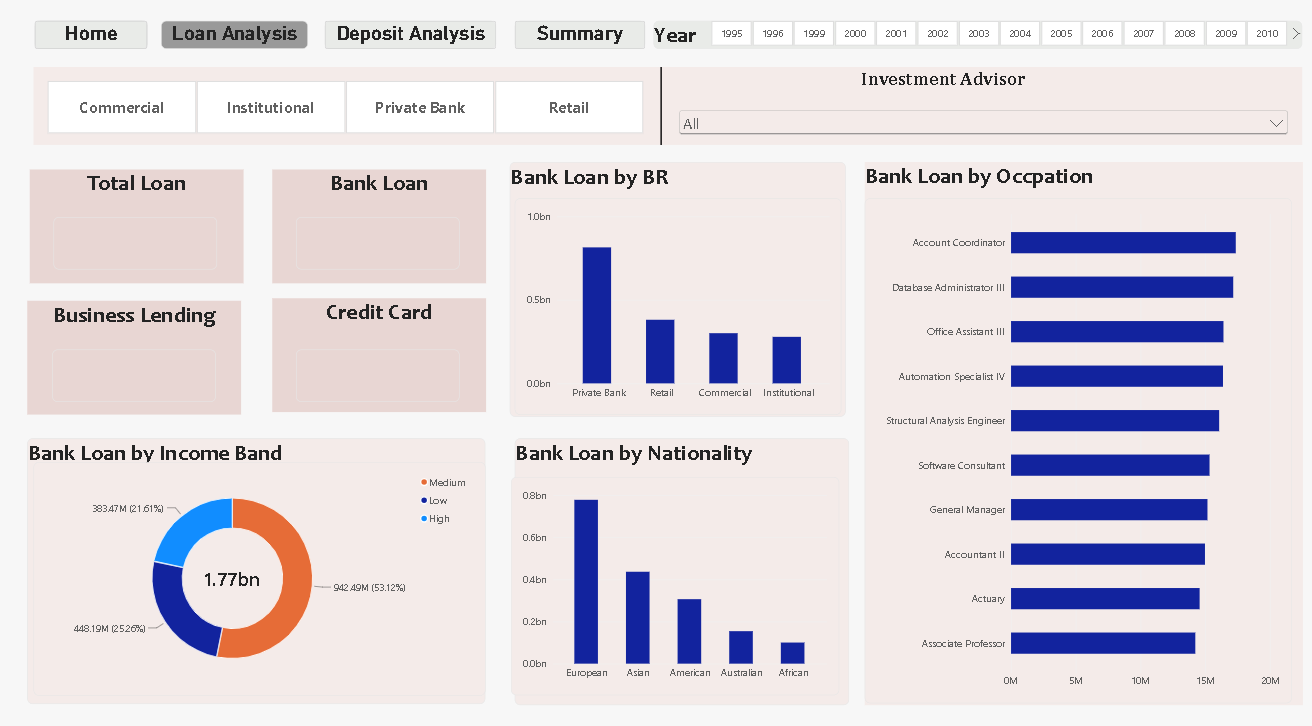

Layout of this report page (visuals, bound fields, positions):
{"tool":"powerbi","page":{"name":"Loan Analysis","canvas":[1920,1080],"ordinal":1},"visuals":[{"type":"textbox","title":"Bank Loan","box":[406.6,256.4,309.3,164.8],"z":0},{"type":"textbox","title":"Total Loan","box":[55.2,256.4,309.3,164.8],"z":1000},{"type":"cardVisual","fields":{"Data":["banking customer.Total Loan"]},"box":[90.6,324.9,237.1,76],"z":2000},{"type":"cardVisual","fields":{"Data":["Sum(banking customer.Bank Loans)"]},"box":[442,324.9,237.1,76],"z":3000},{"type":"textbox","title":"Business Lending","box":[53,446.4,309.3,164.8],"z":4000},{"type":"cardVisual","fields":{"Data":["Sum(banking customer.Business Lending)"]},"box":[88.4,517.1,237.1,76],"z":5000},{"type":"textbox","title":"Credit Card","box":[406.6,444.2,309.3,164.8],"z":6000},{"type":"cardVisual","fields":{"Data":["Sum(banking customer.Credit Card Balance)"]},"box":[442,517.1,237.1,76],"z":7000},{"type":"textbox","title":"Bank Loan by Income Band","box":[53,645.3,663,384.5],"z":8000},{"type":"textbox","title":"Bank Loan by BR","box":[751.4,245.3,486.2,369.1],"z":9000},{"type":"textbox","title":"Bank Loan by Nationality","box":[758,645.3,484,386.7],"z":10000},{"type":"textbox","title":"Bank Loan by Occpation","box":[1264.1,245.3,634.3,786.7],"z":11000},{"type":"textbox","box":[61.9,108.3,1836.5,112.7],"z":12000},{"type":"textbox","title":"Home","box":[63,40.7,163,40.7],"z":13000},{"type":"textbox","title":"Loan Analysis","box":[246.3,40.7,213,40.7],"z":14000},{"type":"textbox","title":"Deposit Analysis","box":[483.3,40.7,248.1,40.7],"z":15000},{"type":"textbox","title":"Summary","box":[757.4,40.7,188.9,40.7],"z":16000},{"type":"textbox","title":"Year","box":[959.3,40.7,938.9,40.7],"z":17000},{"type":"actionButton","box":[63,40.7,163,40.7],"z":18000},{"type":"actionButton","box":[483.3,40.7,248.1,40.7],"z":19000},{"type":"actionButton","box":[757.4,40.7,188.9,40.7],"z":20000},{"type":"donutChart","fields":{"Category":["banking customer.Income Band"],"Y":["Sum(banking customer.Bank Loans)"]},"box":[61.9,680.7,654.1,338.1],"z":21000},{"type":"clusteredColumnChart","fields":{"Category":["banking customer.Banking Relationship"],"Y":["Sum(banking customer.Bank Loans)"]},"box":[758,298.3,472.9,313.8],"z":22000},{"type":"clusteredColumnChart","fields":{"Category":["banking customer.Nationality"],"Y":["Sum(banking customer.Bank Loans)"]},"box":[753.6,702.8,475.1,316],"z":23000},{"type":"barChart","fields":{"Category":["banking customer.Occupation"],"Y":["Sum(banking customer.Bank Loans)"]},"box":[1264.1,298.3,618.8,731.5],"z":24000},{"type":"slicer","fields":{"Values":["banking customer.Year of Joining"]},"box":[1023.2,39.8,872.9,39.8],"z":25000},{"type":"slicer","fields":{"Values":["banking customer.Banking Relationship"]},"box":[61.9,126,901.7,79.6],"z":26000},{"type":"shape","box":[959.1,108.3,22.1,112.7],"z":27000},{"type":"slicer","fields":{"Values":["banking customer.IAId"]},"box":[992.3,165.7,890.6,39.8],"z":28000},{"type":"textbox","title":"Investment Advisor","box":[1228.7,108.3,300.6,39.8],"z":29000}]}

Visuals, with their boxes on the page's 1920x1080 design canvas (x1, y1, x2, y2). These are canvas units, not pixel positions in the 1312x726 screenshot, which may show the page scaled, cropped or inside an application window:
"Bank Loan" textbox: 407, 256, 716, 421
"Total Loan" textbox: 55, 256, 364, 421
cardVisual - banking customer.Total Loan: 91, 325, 328, 401
cardVisual - Sum(banking customer.Bank Loans): 442, 325, 679, 401
"Business Lending" textbox: 53, 446, 362, 611
cardVisual - Sum(banking customer.Business Lending): 88, 517, 326, 593
"Credit Card" textbox: 407, 444, 716, 609
cardVisual - Sum(banking customer.Credit Card Balance): 442, 517, 679, 593
"Bank Loan by Income Band" textbox: 53, 645, 716, 1030
"Bank Loan by BR" textbox: 751, 245, 1238, 614
"Bank Loan by Nationality" textbox: 758, 645, 1242, 1032
"Bank Loan by Occpation" textbox: 1264, 245, 1898, 1032
textbox: 62, 108, 1898, 221
"Home" textbox: 63, 41, 226, 81
"Loan Analysis" textbox: 246, 41, 459, 81
"Deposit Analysis" textbox: 483, 41, 731, 81
"Summary" textbox: 757, 41, 946, 81
"Year" textbox: 959, 41, 1898, 81
actionButton: 63, 41, 226, 81
actionButton: 483, 41, 731, 81
actionButton: 757, 41, 946, 81
donutChart - banking customer.Income Band x Sum(banking customer.Bank Loans): 62, 681, 716, 1019
clusteredColumnChart - banking customer.Banking Relationship x Sum(banking customer.Bank Loans): 758, 298, 1231, 612
clusteredColumnChart - banking customer.Nationality x Sum(banking customer.Bank Loans): 754, 703, 1229, 1019
barChart - banking customer.Occupation x Sum(banking customer.Bank Loans): 1264, 298, 1883, 1030
slicer - banking customer.Year of Joining: 1023, 40, 1896, 80
slicer - banking customer.Banking Relationship: 62, 126, 964, 206
shape: 959, 108, 981, 221
slicer - banking customer.IAId: 992, 166, 1883, 206
"Investment Advisor" textbox: 1229, 108, 1529, 148
